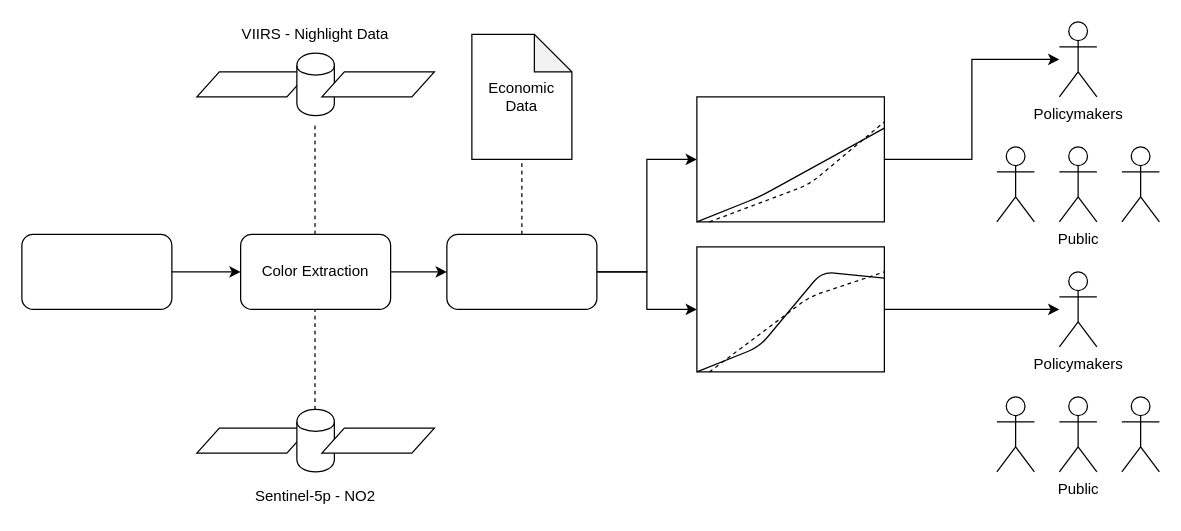
This 1181x531 diagram has some shape labels left out. The shapes that lost their labels are listed below. From the top down, each one's box as (x1, y1, x2, y2) in pixels, then its label:
(21, 233, 172, 309): GIDEON
(446, 233, 597, 309): GDP Modeling
